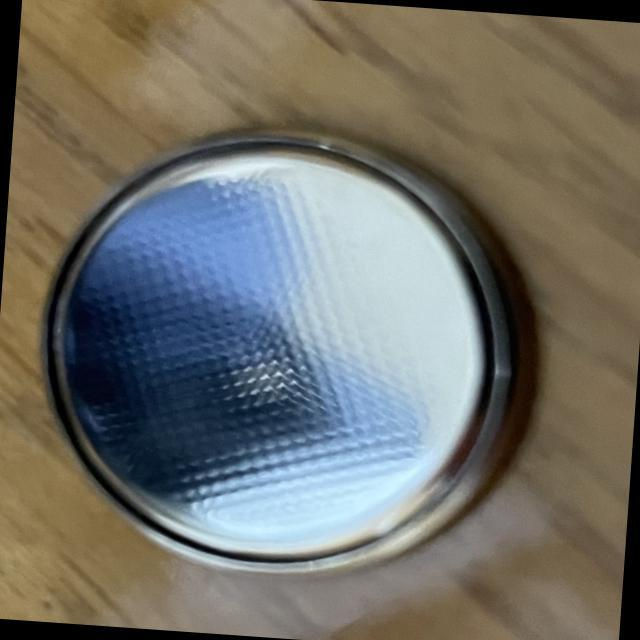COIN: (23, 106, 556, 598)
